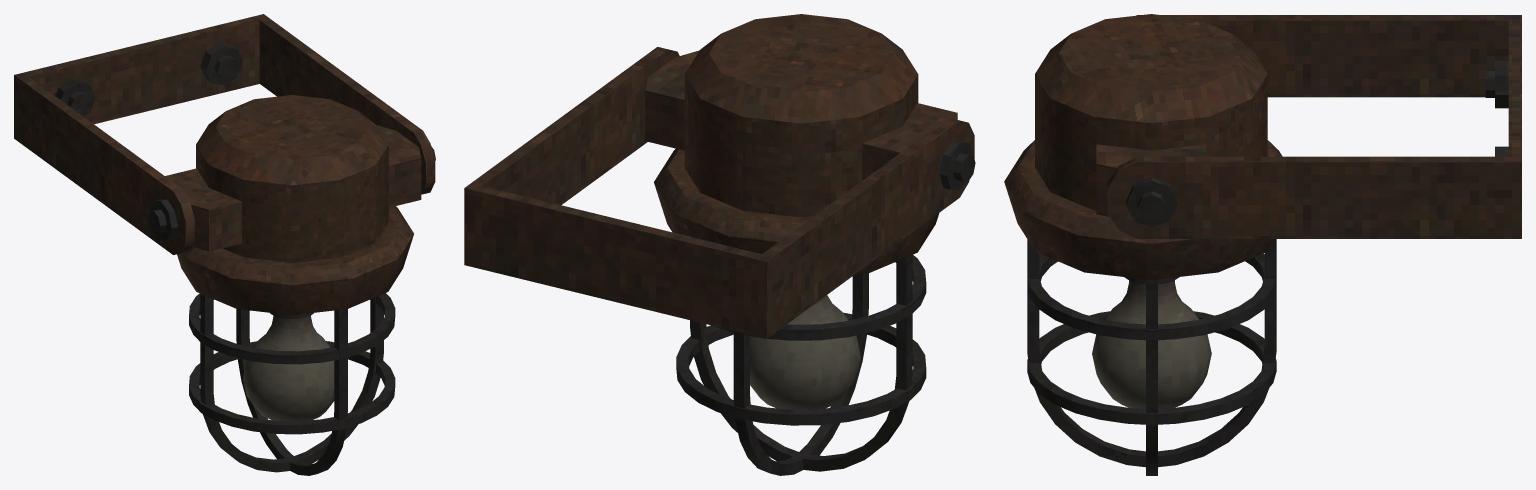
The model's file is lamp_mx_1_a_off.glb.
The picture shows the model from 3 angles, left to right: view 1: azimuth 30°, elevation 25°; view 2: azimuth 150°, elevation 25°; view 3: azimuth 270°, elevation 25°; orthographic projection. The views are drawn at different scales.
Visible parts, largest first — view 1: lamp_mx_1_a_off; view 2: lamp_mx_1_a_off; view 3: lamp_mx_1_a_off.
Part boxes in pixels (x1,y1,x2,y2): lamp_mx_1_a_off: (14,14,435,475); lamp_mx_1_a_off: (464,14,975,475); lamp_mx_1_a_off: (1004,14,1521,475).
Size of the model in its own units: 0.2245 by 0.2657 by 0.3023.
Materials: 3 (3 with a texture image).
